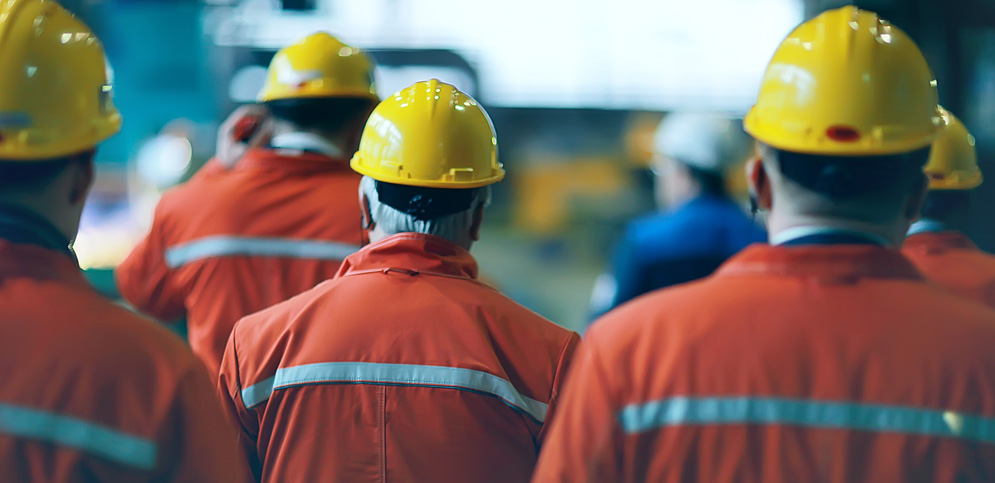Person_wearing_helmet: (707, 9, 966, 176), (346, 71, 513, 206)
